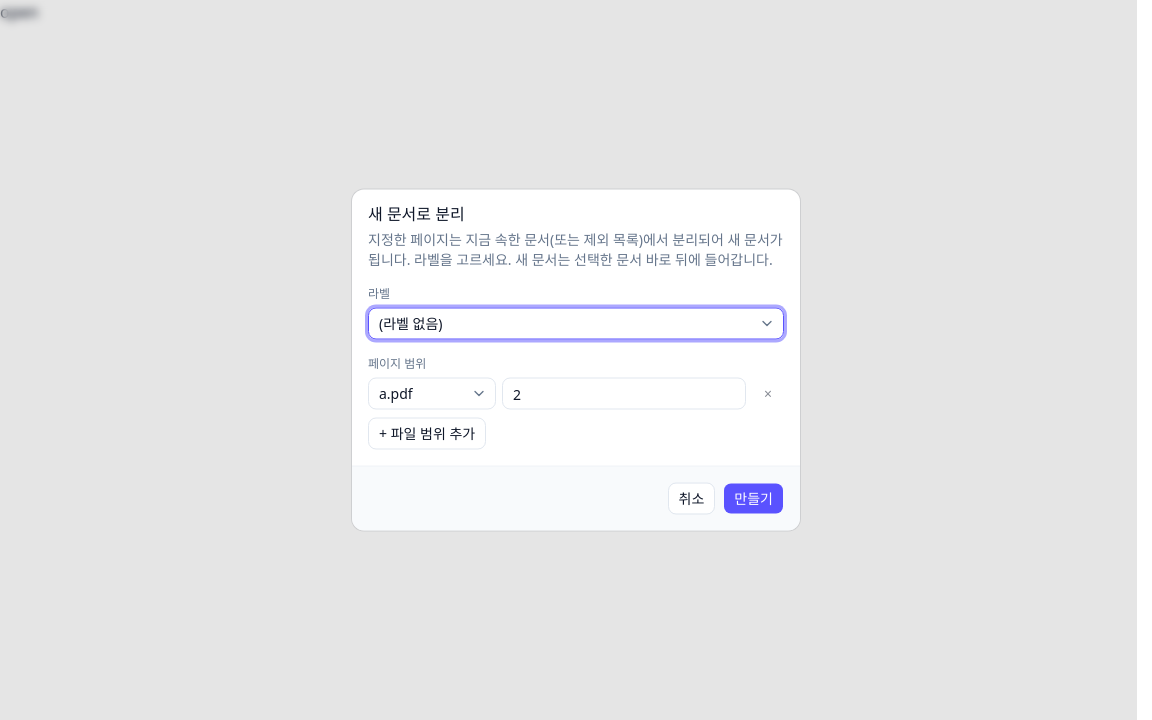
Test: NewDocumentDialog 라벨 칸 › 라벨을 고른 뒤에도 (라벨 없음) 항목이 남는다
Press Enter
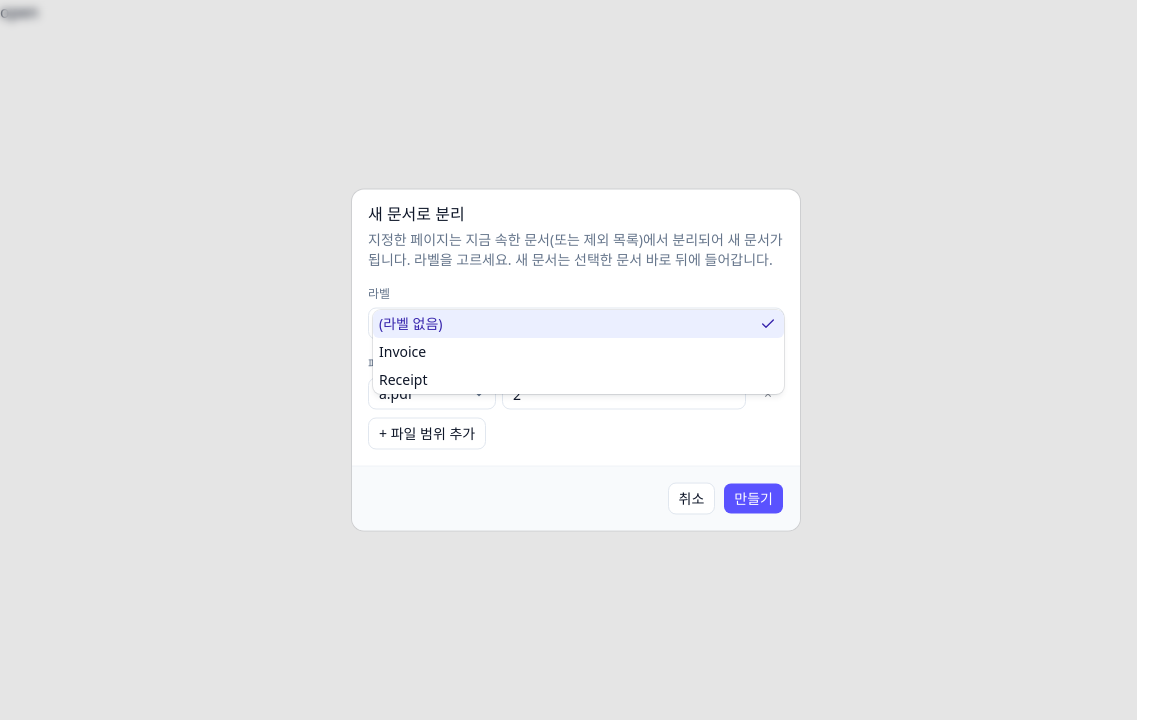
Click the option "Receipt".
click(403, 379)  # box x1=379 y1=370 x2=428 y2=388
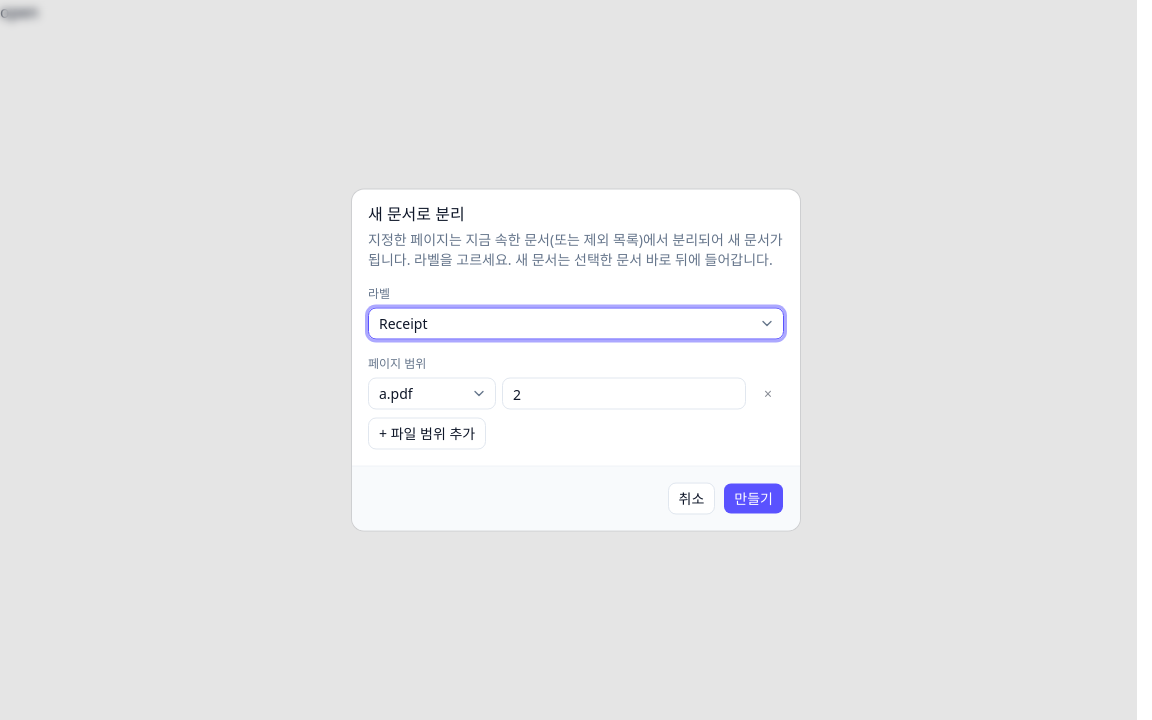
Expected: the dropdown with test id "job-review-new-document-label-select" reads "Receipt", x1=368 y1=308 x2=784 y2=340
Press Enter
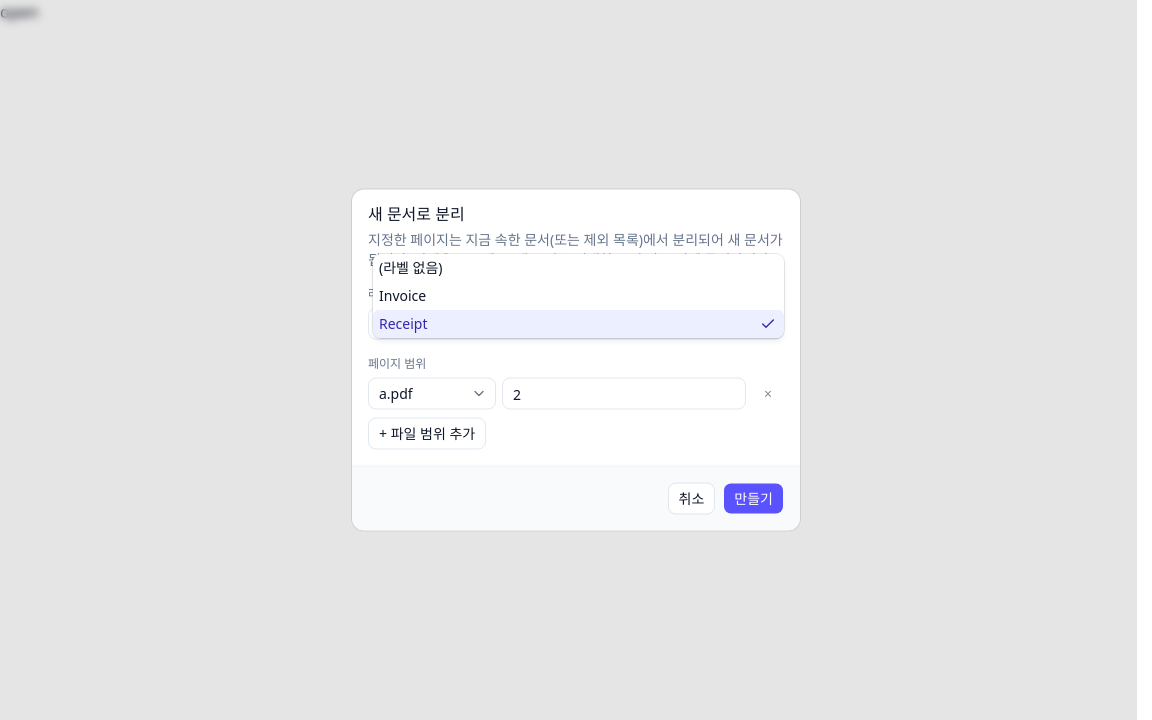
Expected: the options read "(라벨 없음)", "Invoice", "Receipt", in this order, x1=379 y1=258 x2=443 y2=276; x1=379 y1=286 x2=426 y2=304; x1=373 y1=310 x2=784 y2=338
